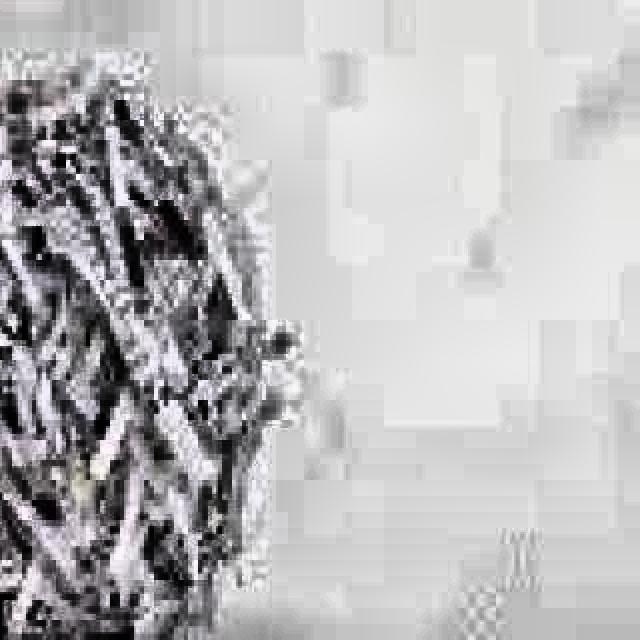paper: (0, 60, 286, 640)
